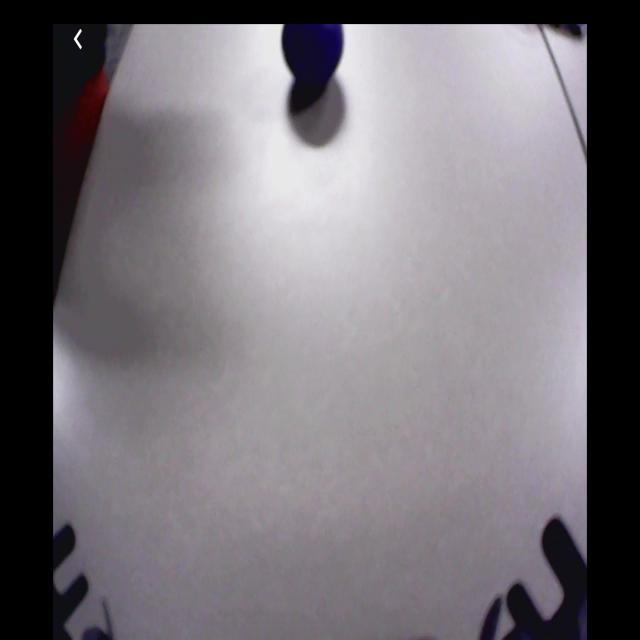ball: (283, 24, 344, 78)
